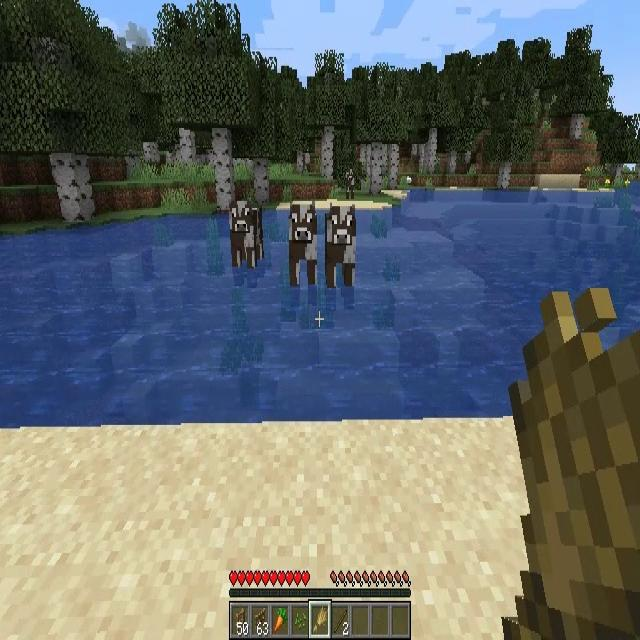cow: (288, 199, 318, 287), (324, 205, 355, 288), (229, 201, 264, 269), (346, 170, 355, 199)
